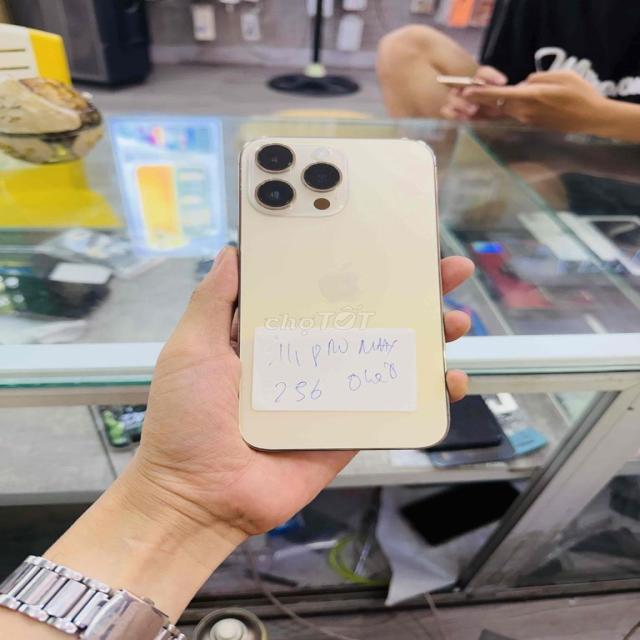gen_14: (234, 129, 464, 459)
